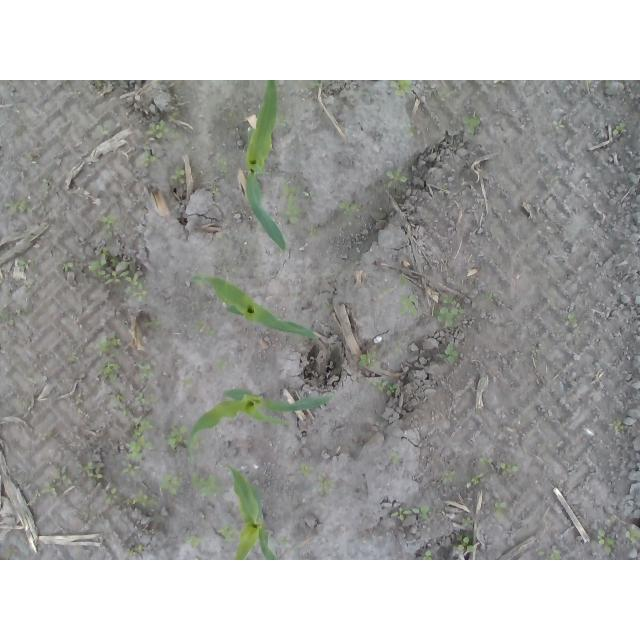Maize: (185, 388, 335, 464), (190, 275, 320, 341), (241, 82, 288, 255), (217, 461, 279, 560)
Weeds: (87, 247, 146, 303), (120, 416, 155, 480), (94, 336, 122, 385), (281, 178, 306, 226), (434, 293, 467, 328), (192, 470, 225, 498), (113, 391, 147, 416), (391, 504, 434, 522), (367, 376, 398, 400), (164, 422, 189, 450), (158, 471, 184, 497), (595, 526, 618, 555), (127, 491, 161, 510), (384, 167, 411, 189), (146, 119, 171, 142), (318, 470, 339, 497), (440, 341, 460, 367), (78, 462, 107, 479), (399, 295, 420, 318), (142, 144, 162, 168), (336, 199, 361, 218), (463, 112, 481, 137), (4, 200, 32, 216), (136, 361, 156, 383), (217, 523, 240, 542), (103, 215, 120, 240), (456, 532, 476, 552), (53, 465, 72, 486), (356, 351, 377, 369), (168, 163, 185, 185), (391, 80, 414, 96), (214, 153, 230, 176), (493, 501, 511, 520), (624, 525, 640, 544), (61, 257, 79, 273), (185, 534, 204, 549), (127, 543, 146, 558), (544, 544, 561, 560), (105, 487, 119, 505), (500, 462, 521, 474), (14, 258, 34, 270), (608, 417, 625, 431), (307, 224, 321, 240), (192, 318, 208, 332), (296, 464, 313, 477), (37, 175, 49, 193), (612, 121, 625, 137), (143, 319, 161, 330), (388, 449, 401, 464), (46, 478, 58, 494), (67, 352, 78, 369), (439, 471, 457, 481), (304, 191, 320, 202), (462, 516, 475, 529), (398, 275, 409, 289), (1, 310, 16, 320), (551, 119, 566, 129), (470, 474, 482, 486), (225, 111, 238, 122), (23, 280, 34, 293), (166, 112, 179, 123), (184, 374, 197, 385), (479, 455, 493, 465), (73, 392, 84, 404), (215, 359, 226, 371), (566, 311, 579, 321), (307, 80, 321, 88), (423, 549, 433, 560), (279, 535, 290, 545), (98, 128, 110, 137), (210, 184, 220, 194), (24, 151, 33, 161), (408, 127, 417, 137), (38, 432, 48, 441), (94, 80, 103, 88), (487, 292, 494, 302), (152, 80, 160, 84)
